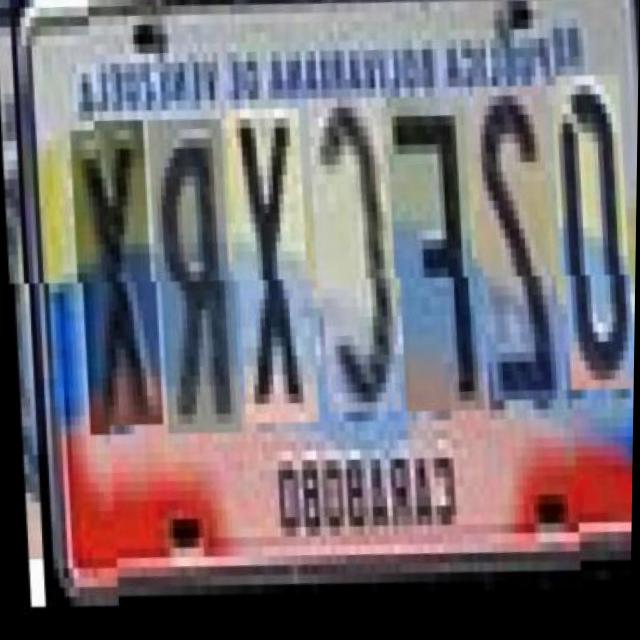0: (545, 90, 635, 413)
2: (468, 91, 556, 414)
c: (302, 103, 395, 424)
f: (381, 101, 478, 425)
r: (142, 123, 235, 447)
x: (220, 113, 313, 436), (64, 124, 157, 437)
